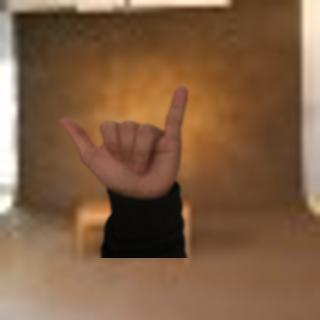HAVE: (53, 80, 199, 202)
